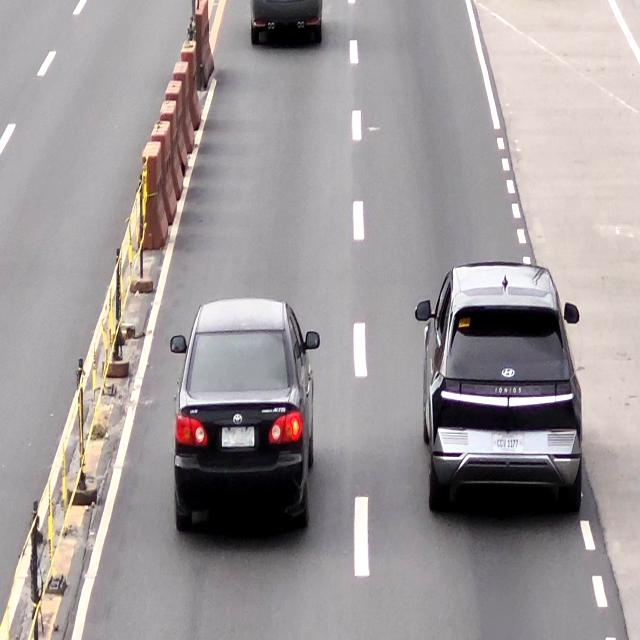Car: (414, 262, 584, 520), (170, 296, 319, 532)
License-Plate: (222, 426, 255, 448), (490, 434, 524, 454)
